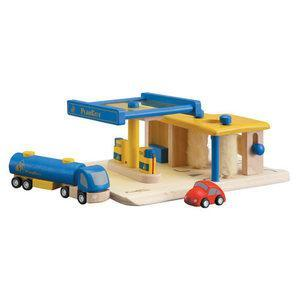car: (7, 149, 113, 209), (183, 179, 230, 209)
